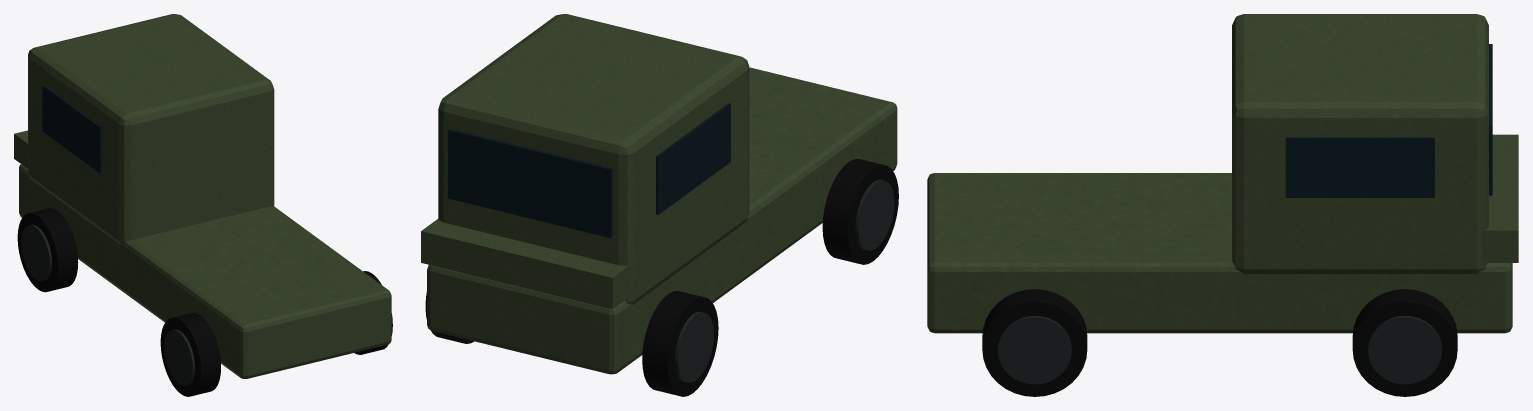
The picture shows the model from 3 angles, left to right: view 1: azimuth 30°, elevation 25°; view 2: azimuth 150°, elevation 25°; view 3: azimuth 270°, elevation 25°; orthographic projection. The views are drawn at different scales.
Visible parts, largest first — view 1: Hull_MVP olive paint, RunningGear_MVP rubber, Hull_MVP optical glass, RunningGear_MVP exposed metal; view 2: Hull_MVP olive paint, Hull_MVP optical glass, RunningGear_MVP rubber, RunningGear_MVP exposed metal; view 3: Hull_MVP olive paint, RunningGear_MVP rubber, Hull_MVP optical glass, RunningGear_MVP exposed metal.
Part boxes in pixels (<box>): Hull_MVP olive paint: <box>14,14,391,378</box>; RunningGear_MVP rubber: <box>17,208,392,396</box>; Hull_MVP optical glass: <box>42,85,101,173</box>; RunningGear_MVP exposed metal: <box>21,224,195,385</box>; Hull_MVP olive paint: <box>421,14,897,374</box>; Hull_MVP optical glass: <box>448,103,730,237</box>; RunningGear_MVP rubber: <box>425,158,898,396</box>; RunningGear_MVP exposed metal: <box>675,179,894,382</box>; Hull_MVP olive paint: <box>927,14,1518,333</box>; RunningGear_MVP rubber: <box>982,289,1457,396</box>; Hull_MVP optical glass: <box>1285,44,1492,197</box>; RunningGear_MVP exposed metal: <box>997,316,1442,384</box>.
Size of the model in its own units: 2.46 by 2.57 by 4.95.
Materials: 4 (4 with a texture image).
